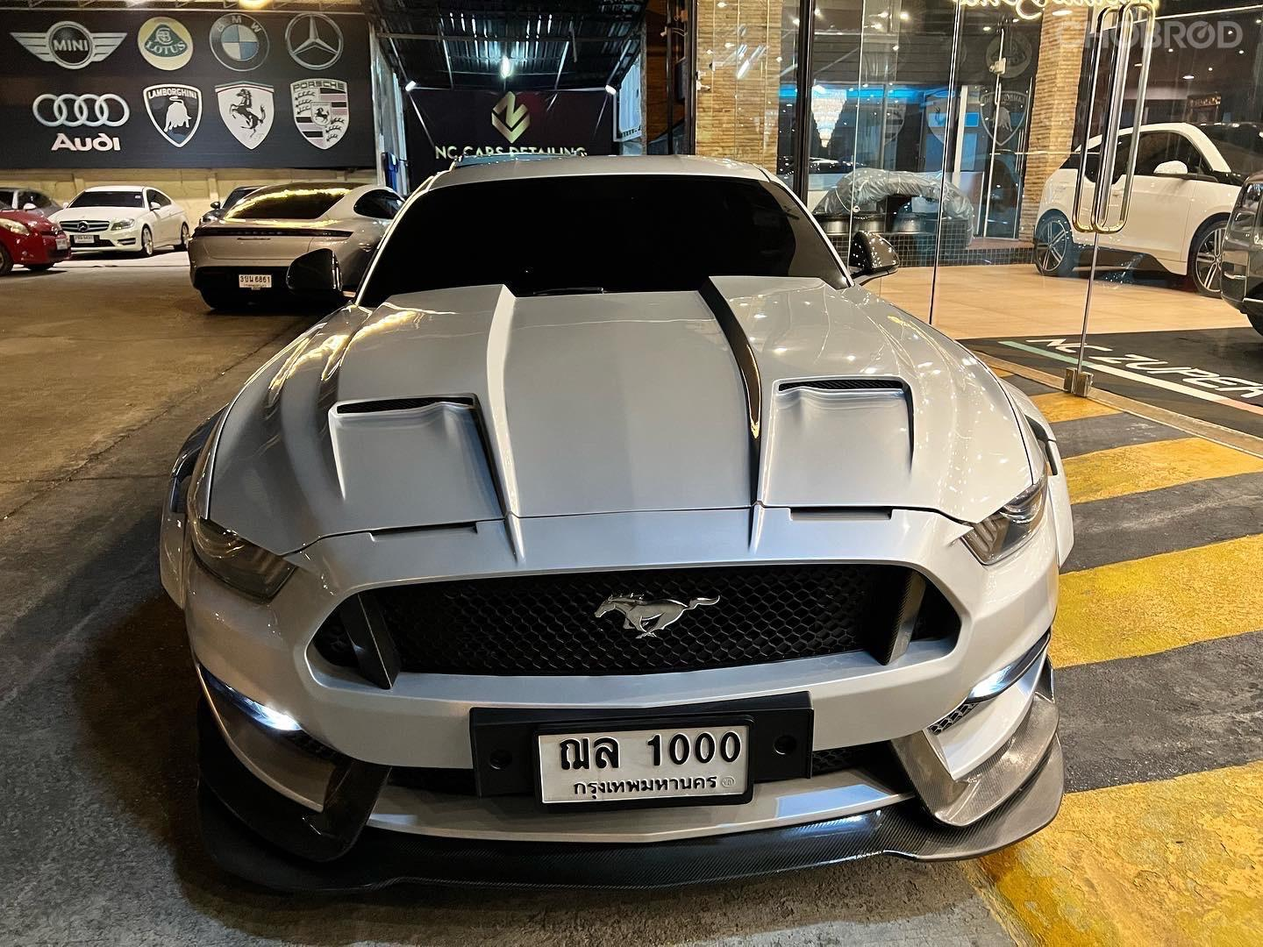license-plate: (521, 715, 758, 809), (236, 268, 275, 292)
